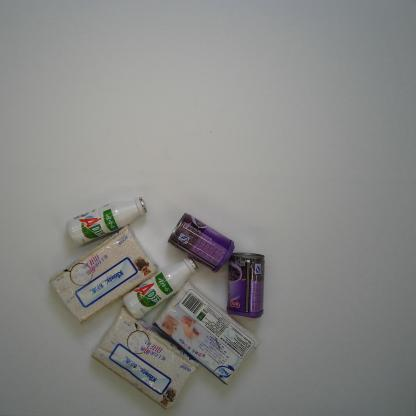Canned Food: (167, 212, 236, 274), (226, 251, 265, 319)
Milk: (121, 257, 198, 320), (66, 195, 147, 247)
Tissue: (151, 278, 262, 388), (90, 305, 200, 414), (48, 224, 161, 326)
